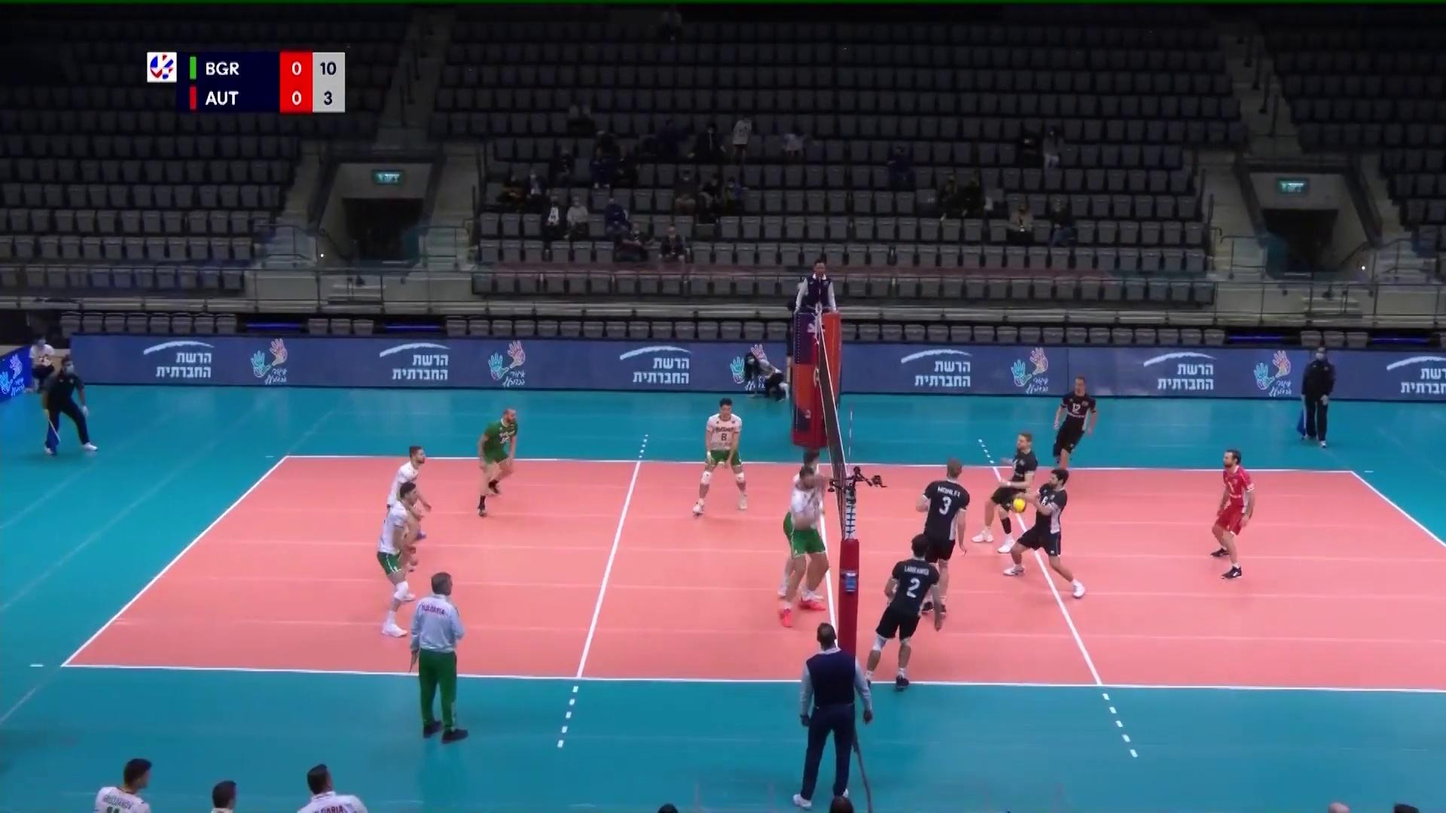ball: (1009, 497, 1027, 512)
